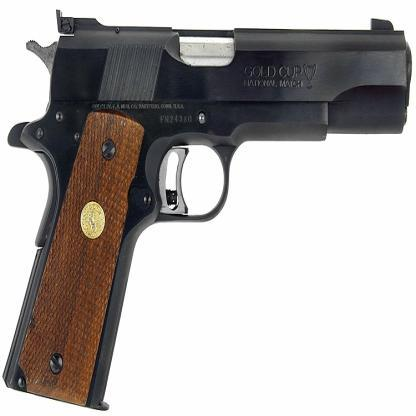gun: (4, 12, 413, 408)
